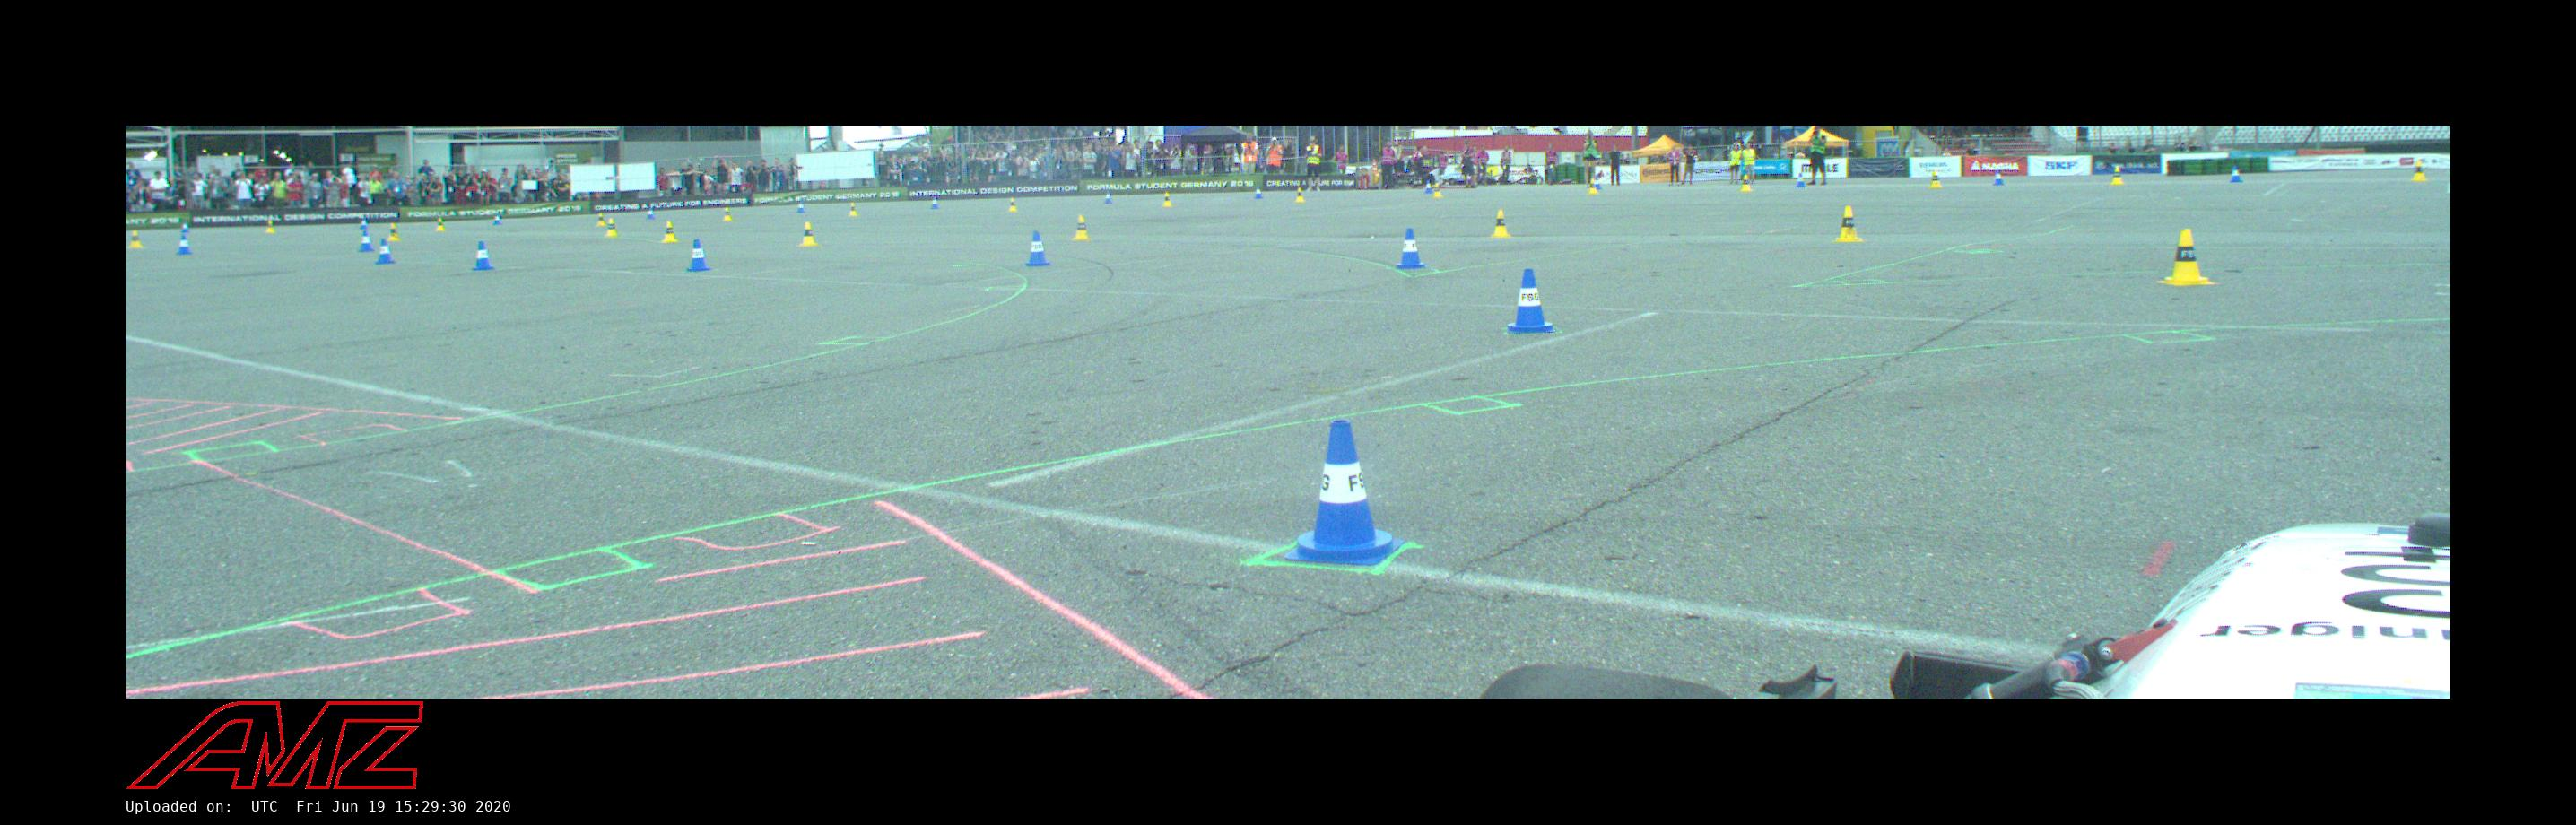blue_cone: (1285, 421, 1401, 567), (1509, 271, 1559, 333), (1397, 230, 1428, 268), (1026, 232, 1050, 266), (687, 240, 709, 271), (472, 241, 495, 270), (372, 239, 396, 265), (358, 230, 375, 252), (177, 236, 191, 255), (2228, 166, 2244, 182), (357, 213, 370, 230), (927, 195, 941, 210), (1992, 170, 2005, 186), (491, 211, 503, 225), (1795, 173, 1806, 188), (1253, 185, 1264, 199), (179, 221, 190, 233), (796, 200, 806, 213), (1424, 180, 1433, 194), (1595, 176, 1603, 190), (1103, 192, 1112, 204), (647, 206, 655, 219)
yellow_cone: (2165, 228, 2208, 285), (1836, 206, 1866, 241), (1489, 211, 1512, 238), (1071, 215, 1091, 240), (800, 221, 818, 247), (2410, 161, 2427, 181), (127, 230, 144, 249), (663, 221, 678, 242), (1928, 171, 1942, 188), (1739, 175, 1754, 192), (1585, 177, 1598, 195), (2110, 167, 2123, 185), (265, 216, 276, 234), (594, 212, 607, 227), (606, 219, 617, 237), (388, 224, 401, 239), (1432, 183, 1443, 198), (434, 218, 447, 231), (1006, 198, 1018, 212), (848, 203, 859, 216), (1162, 193, 1173, 207), (1294, 187, 1305, 202), (722, 207, 733, 221)
